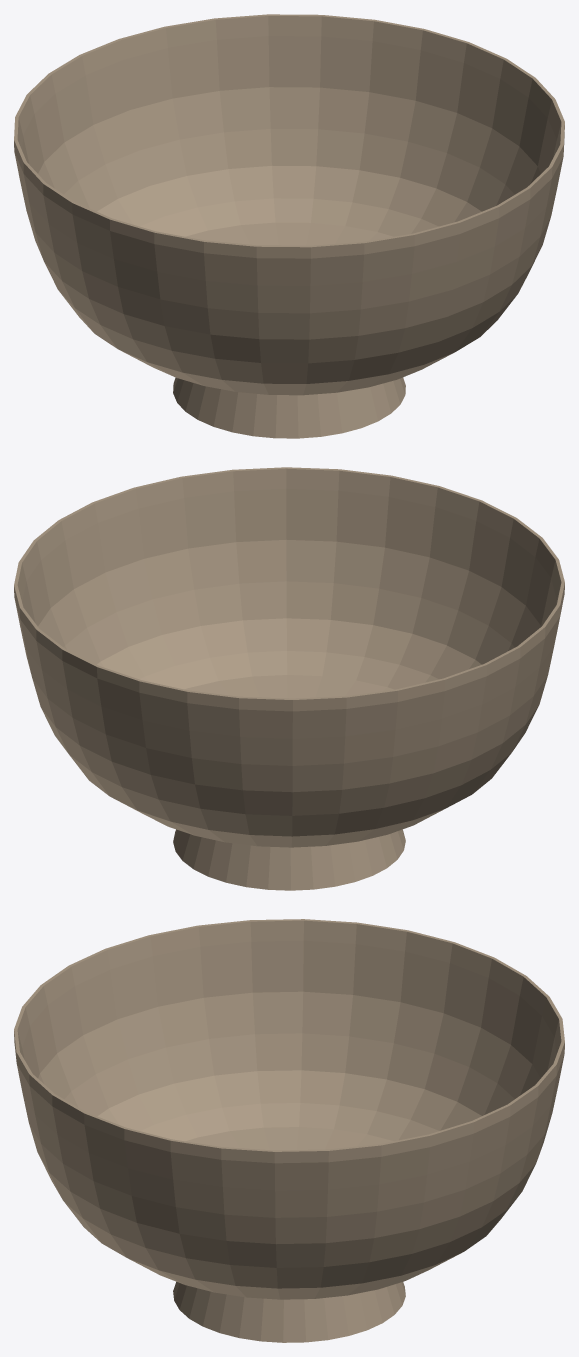
File: shikki.glb
The picture shows the model from 3 angles, top to bottom: view 1: azimuth 30°, elevation 25°; view 2: azimuth 150°, elevation 25°; view 3: azimuth 270°, elevation 25°; orthographic projection.
Parts seen in each view (by area): view 1: wan; view 2: wan; view 3: wan.
Part boxes in pixels (x1,y1,x2,y2): wan: [14, 14, 564, 438]; wan: [14, 467, 564, 890]; wan: [14, 919, 564, 1342].
Size of the model in its own units: 5.36 by 2.77 by 5.36.
